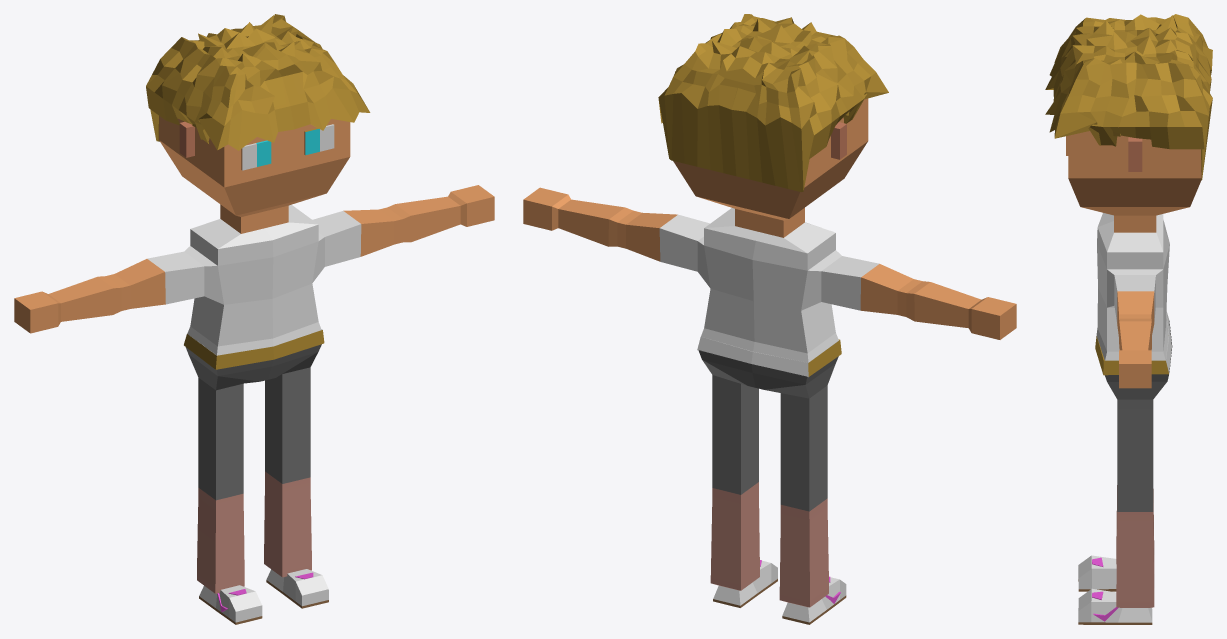
The model's file is Bohdy1.fbx.
3 views of the same model, side by side, from view 1: azimuth 30°, elevation 25°; view 2: azimuth 150°, elevation 25°; view 3: azimuth 270°, elevation 25° (orthographic). The views are drawn at different scales.
Visible parts, largest first — view 1: Police.001; view 2: Police.001; view 3: Police.001.
Boxes of the visible parts, box(x1,y1,x2,y2) form: Police.001: box(14, 14, 494, 624); Police.001: box(523, 14, 1016, 624); Police.001: box(1045, 14, 1212, 624).
Size of the model in its own units: 519 by 597 by 159.
